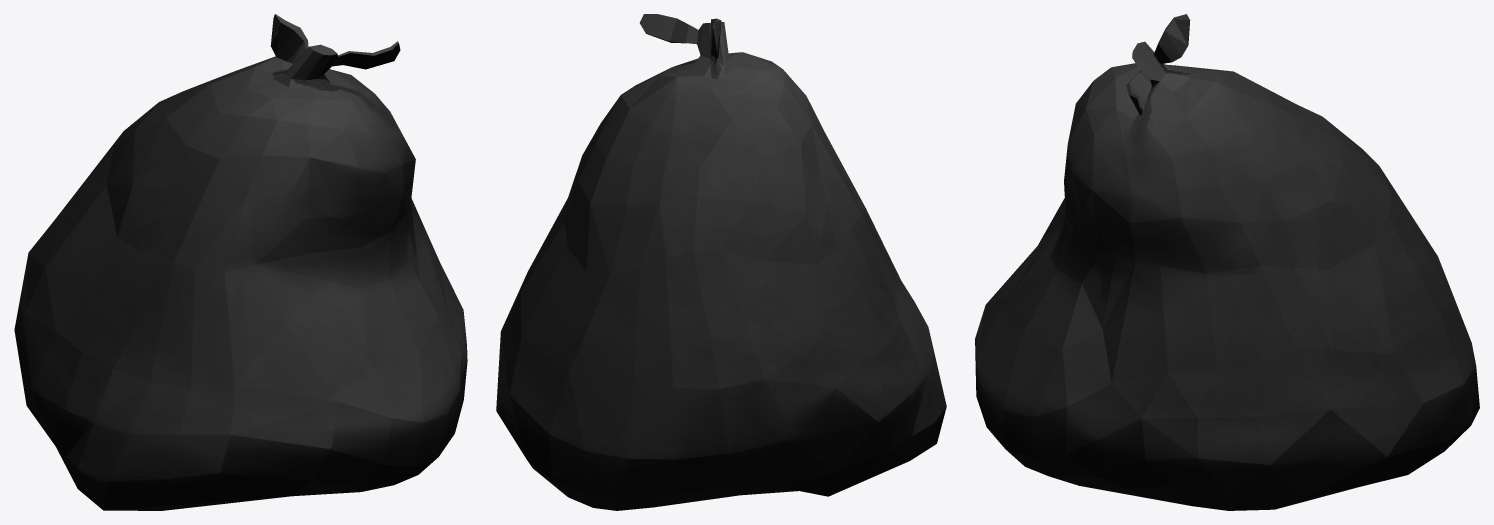
File: Lixo.fbx
3 views of the same model, side by side, from view 1: azimuth 30°, elevation 25°; view 2: azimuth 150°, elevation 25°; view 3: azimuth 270°, elevation 25° (orthographic). The views are drawn at different scales.
Visible parts, largest first — view 1: lixo; view 2: lixo; view 3: lixo.
Part boxes in pixels (x1,y1,x2,y2): lixo: (14, 14, 467, 510); lixo: (496, 14, 946, 510); lixo: (975, 14, 1479, 510).
Size of the model in its own units: 168 by 174 by 182.
